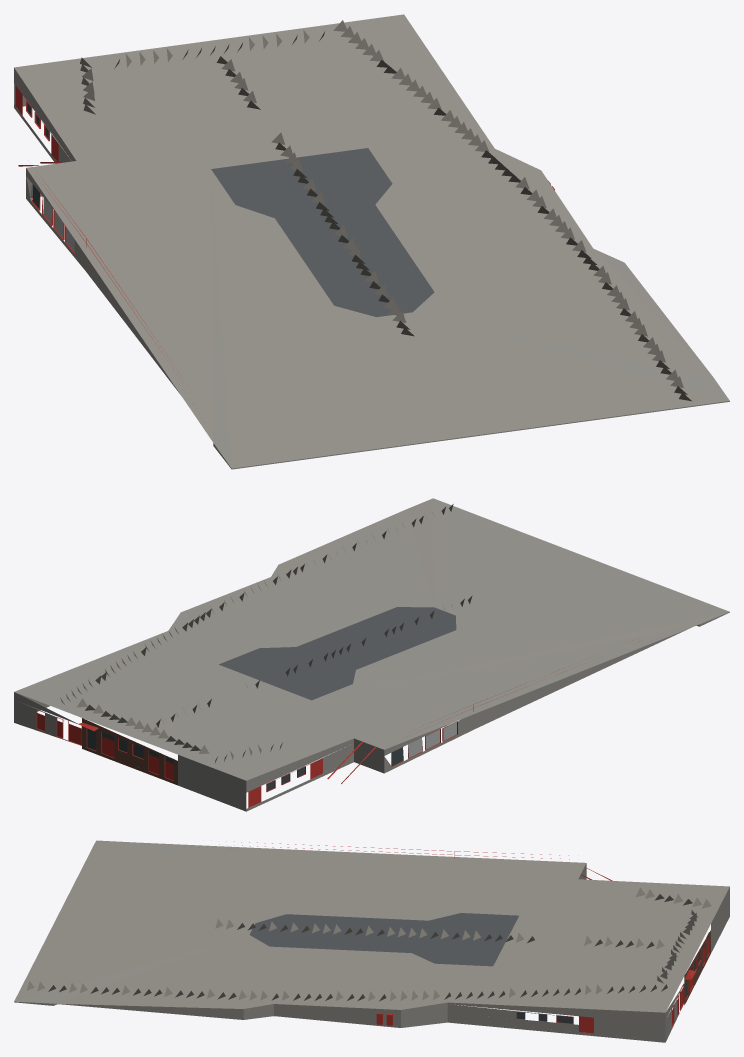
Rendered from y-helling.lod1.glb.
3 renders of one model, top to bottom at view 1: azimuth 30°, elevation 25°; view 2: azimuth 150°, elevation 25°; view 3: azimuth 270°, elevation 25°, orthographic. The views are drawn at different scales.
Visible parts, largest first — view 1: y-helling; view 2: y-helling; view 3: y-helling.
Boxes of the visible parts, x1,y1,x2,y2 form: y-helling: [14, 14, 729, 469]; y-helling: [14, 498, 729, 811]; y-helling: [14, 840, 729, 1042].
Size of the model in its own units: 65.56 by 5.58 by 98.37.
